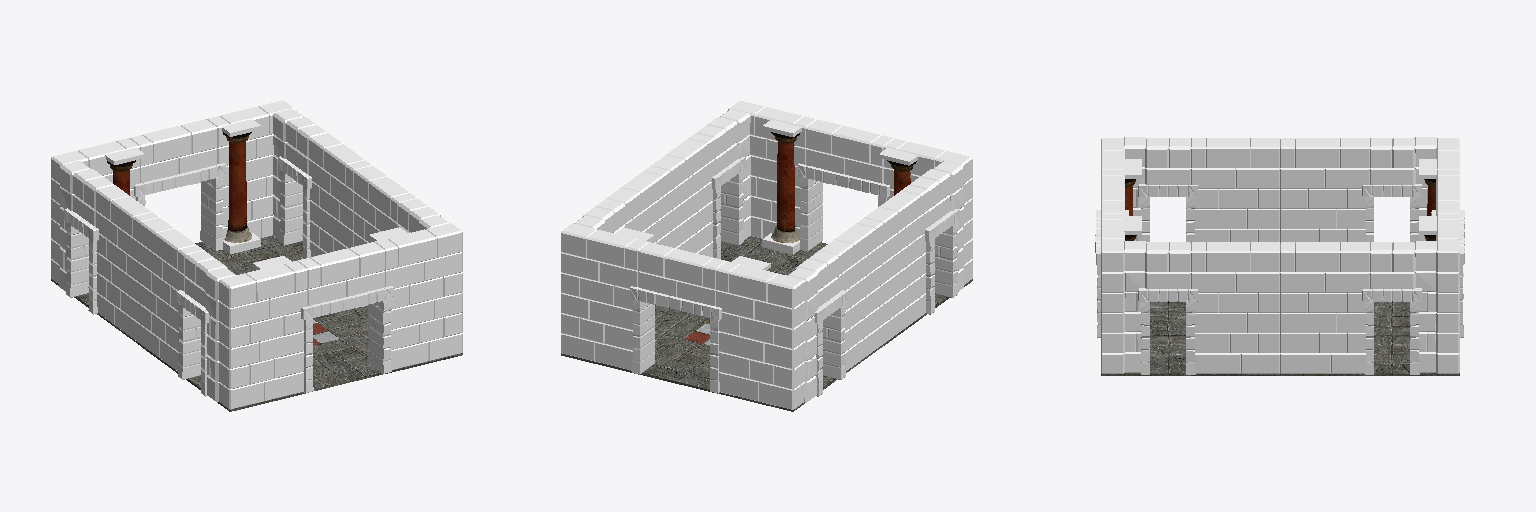
3 renders of one model, left to right at view 1: azimuth 30°, elevation 25°; view 2: azimuth 150°, elevation 25°; view 3: azimuth 270°, elevation 25°, orthographic.
Parts seen in each view (by area): view 1: Box3453, Box3452, Box3458, Box3457, Box3455, Box002, Box3454, Box0034, Box3456, Box235, Box022, Line002 (+17 smaller); view 2: Box235, Box002, Box3457, Box3458, Box3456, Box3452, Box0034, Box3454, Box3455, Box3453, Box030, Line005 (+18 smaller); view 3: Box3455, Box3456, Box3458, Box3457, Box002, Box3452, Box4113, Box4114, Box003, Box3461, Box3459, Box3460 (+14 smaller).
Boxes of the visible parts, x1,y1,x2,y2 form: Box3453: [219, 261, 307, 409]; Box3452: [375, 223, 462, 369]; Box3458: [96, 185, 159, 342]; Box3457: [140, 218, 203, 370]; Box3455: [309, 133, 372, 256]; Box002: [206, 100, 294, 239]; Box3454: [297, 242, 384, 305]; Box0034: [129, 119, 216, 182]; Box3456: [354, 166, 416, 246]; Box235: [51, 138, 139, 284]; Box022: [313, 339, 382, 390]; Line002: [223, 132, 251, 242]; Box235: [716, 261, 804, 409]; Box002: [561, 223, 648, 370]; Box3457: [864, 185, 927, 343]; Box3458: [819, 218, 882, 370]; Box3456: [651, 133, 714, 256]; Box3452: [728, 101, 816, 239]; Box0034: [638, 242, 726, 305]; Box3454: [806, 120, 894, 183]; Box3455: [606, 166, 669, 246]; Box3453: [884, 138, 972, 284]; Box030: [638, 339, 713, 392]; Line005: [771, 132, 799, 242]; Box3455: [1280, 242, 1369, 373]; Box3456: [1191, 242, 1279, 373]; Box3458: [1280, 138, 1369, 242]; Box3457: [1191, 138, 1279, 241]; Box002: [1436, 214, 1459, 373]; Box3452: [1101, 214, 1124, 373]; Box4113: [1414, 241, 1436, 372]; Box4114: [1124, 241, 1146, 372]; Box003: [1145, 138, 1190, 185]; Box3461: [1145, 242, 1190, 289]; Box3459: [1370, 138, 1415, 185]; Box3460: [1370, 242, 1415, 289].
Size of the model in its own units: 6.28 by 3.08 by 8.27.
6 materials, 4 textured.